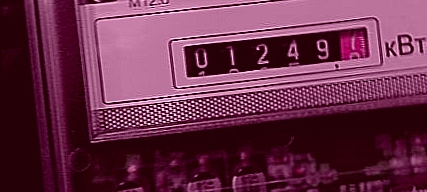0: (191, 40, 210, 66)
1: (223, 39, 238, 65)
2: (253, 38, 273, 64)
4: (285, 32, 303, 59)
7: (345, 25, 360, 49)
9: (314, 32, 332, 58)
screen: (162, 15, 396, 92)
